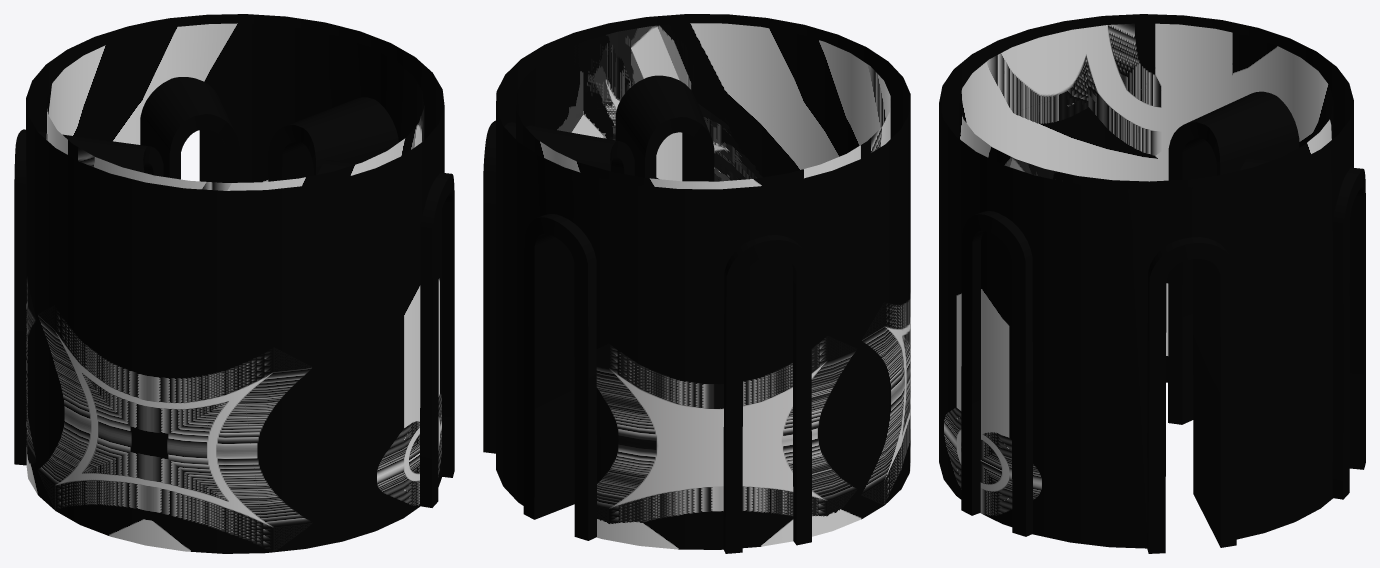
The model's file is 02_FC_SplineMesh_6.fbx.
3 views of the same model, side by side, from view 1: azimuth 30°, elevation 25°; view 2: azimuth 150°, elevation 25°; view 3: azimuth 270°, elevation 25° (orthographic).
Visible parts, largest first — view 1: 02_FC_SplineMesh_6; view 2: 02_FC_SplineMesh_6; view 3: 02_FC_SplineMesh_6.
Part boxes in pixels (x1,y1,x2,y2): 02_FC_SplineMesh_6: [14, 14, 454, 553]; 02_FC_SplineMesh_6: [483, 14, 910, 553]; 02_FC_SplineMesh_6: [939, 14, 1365, 553].
Bounding box in the file's own units: 12.79 × 11.82 × 12.73.
1 material, 1 textured.
